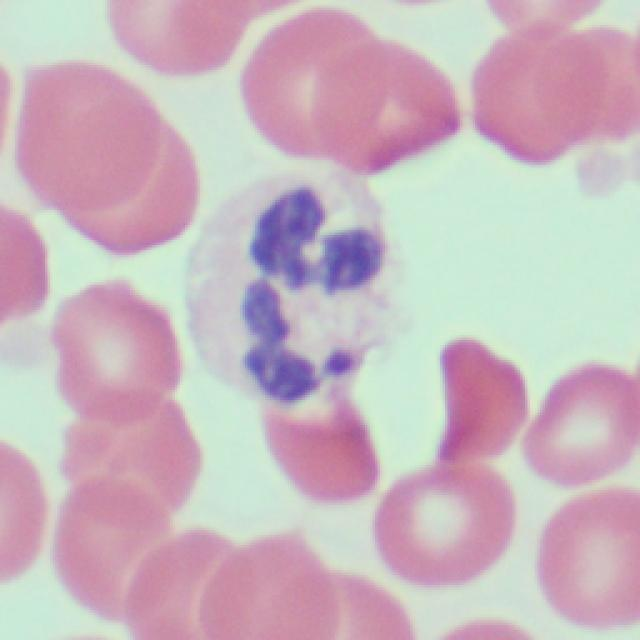RBC: (236, 11, 448, 176), (24, 60, 196, 252), (48, 387, 187, 624), (248, 304, 367, 520), (468, 14, 630, 154), (49, 271, 178, 423), (366, 458, 509, 594), (515, 341, 638, 497), (527, 484, 637, 630), (207, 532, 349, 640), (428, 328, 520, 493), (103, 0, 243, 79), (0, 430, 47, 587), (0, 199, 47, 343)
WBC: (188, 165, 404, 407)
